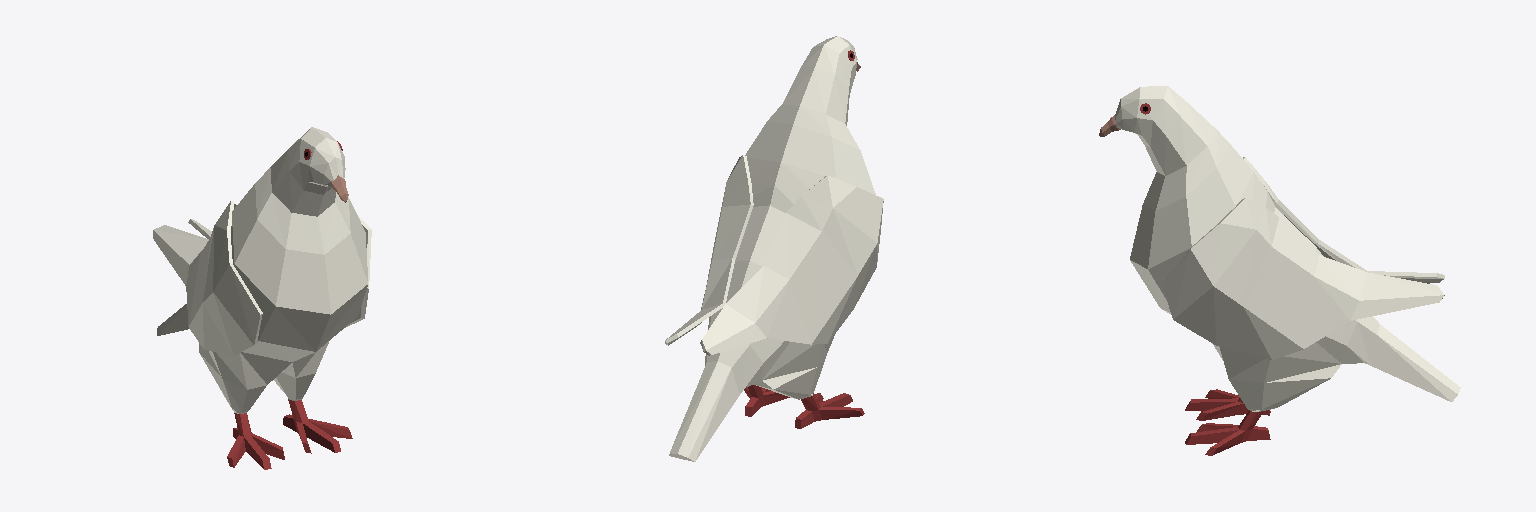
The picture shows the model from 3 angles: view 1: azimuth 30°, elevation 25°; view 2: azimuth 150°, elevation 25°; view 3: azimuth 270°, elevation 25°; orthographic projection.
Visible parts, largest first — view 1: Geo_Dove; view 2: Geo_Dove; view 3: Geo_Dove.
Boxes of the visible parts, x1,y1,x2,y2 form: Geo_Dove: [153, 127, 371, 469]; Geo_Dove: [665, 36, 883, 461]; Geo_Dove: [1099, 86, 1460, 455].
Size of the model in its own units: 44.83 by 95.74 by 92.27.
1 materials, 1 textured.